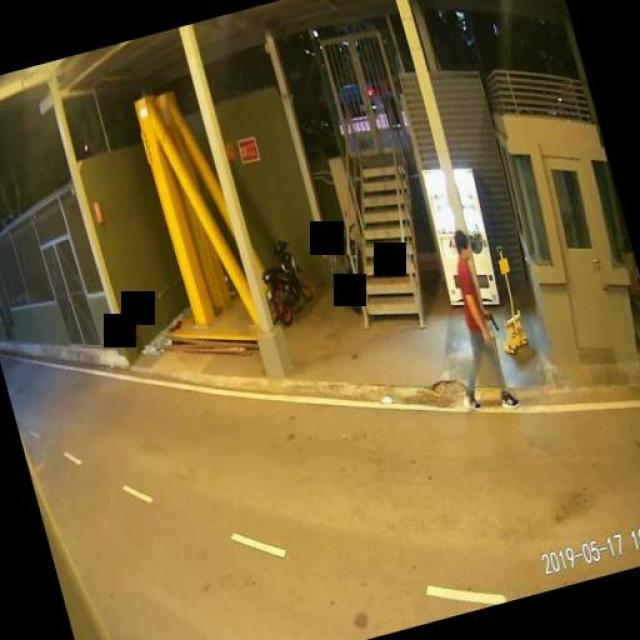gun: (482, 309, 498, 331)
